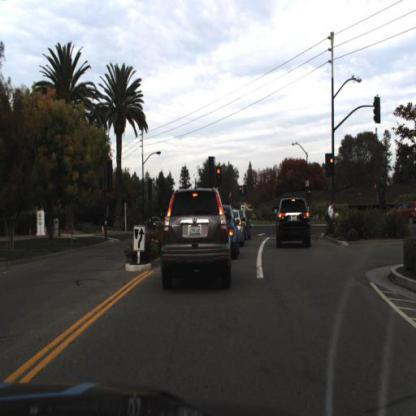car: (160, 190, 231, 291), (275, 198, 314, 249), (383, 199, 416, 230), (230, 208, 242, 262)
pedestrian: (326, 201, 337, 237), (328, 201, 336, 228)
trafficLight-Red: (216, 166, 223, 189), (217, 169, 225, 185), (329, 155, 334, 175)
